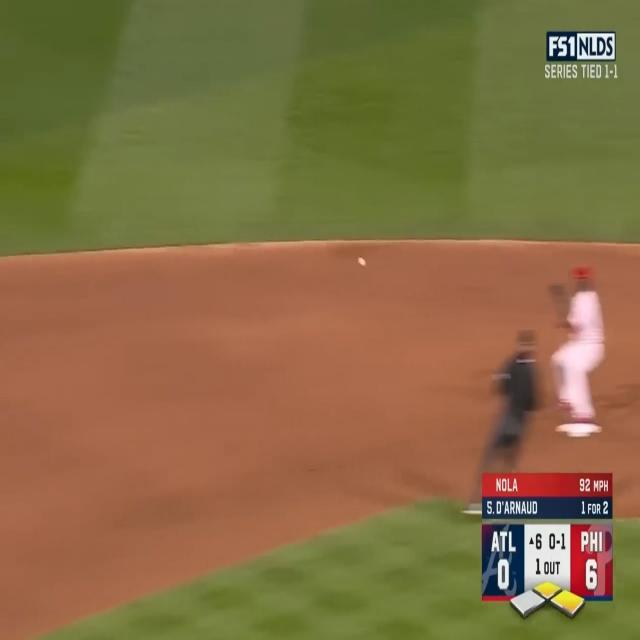baseball: (357, 256, 367, 268)
